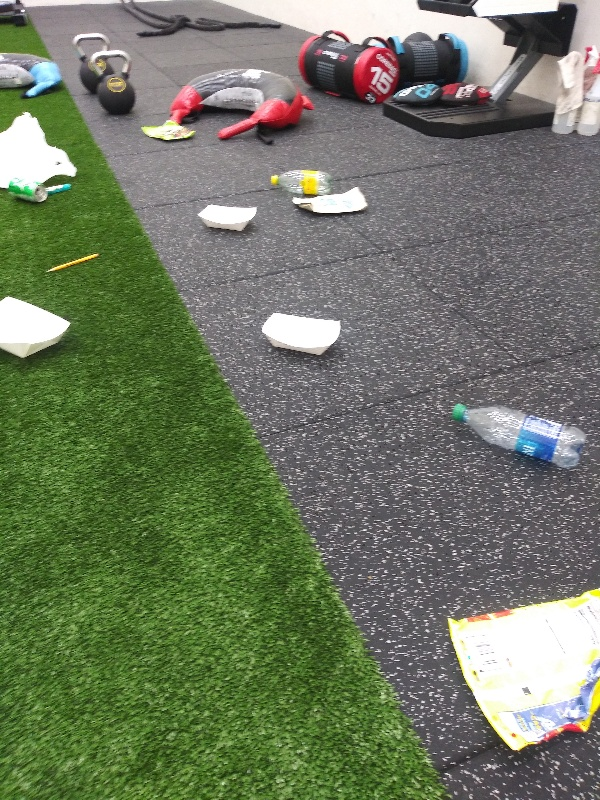bag: (444, 580, 600, 764), (284, 185, 372, 220), (138, 117, 200, 145)
bottle: (448, 396, 590, 473), (266, 167, 334, 195)
can: (5, 180, 49, 204)
plate: (1, 293, 74, 364), (259, 308, 348, 361), (196, 202, 265, 232)
